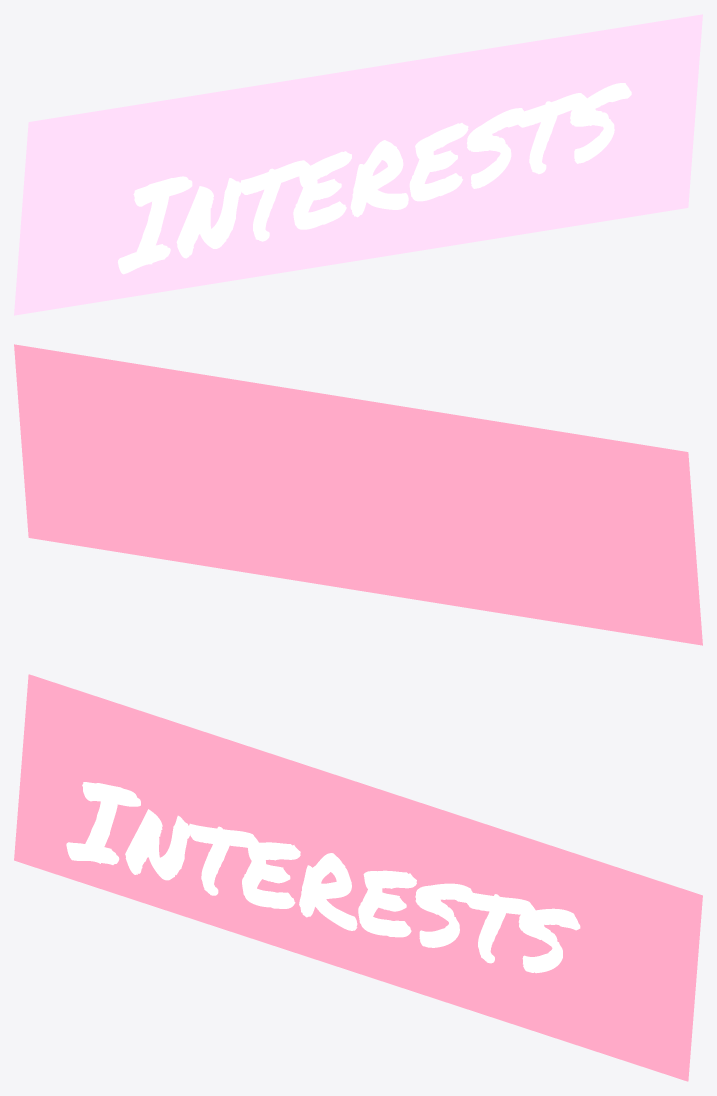
The model's file is btninterests.gltf.
3 views of the same model, one above another, from view 1: azimuth 30°, elevation 25°; view 2: azimuth 150°, elevation 25°; view 3: azimuth 330°, elevation 25° (orthographic).
Visible parts, largest first — view 1: Plane.027, btn Personal Interest; view 2: Plane.027; view 3: Plane.027, btn Personal Interest.
Part boxes in pixels (<box>): Plane.027: <box>14,14,702,315</box>; btn Personal Interest: <box>118,83,631,274</box>; Plane.027: <box>14,344,702,645</box>; Plane.027: <box>14,674,702,1081</box>; btn Personal Interest: <box>66,782,580,973</box>.
Size of the model in its own units: 2.65 by 0.9063 by 0.1711.
